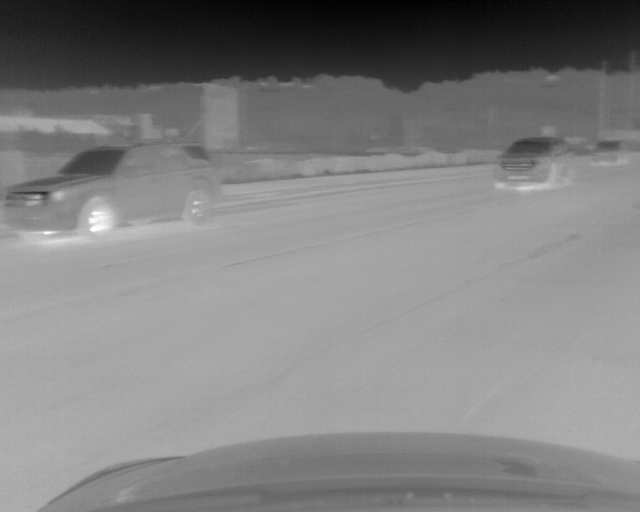car: (3, 141, 220, 238), (491, 136, 569, 187), (590, 138, 629, 168)
